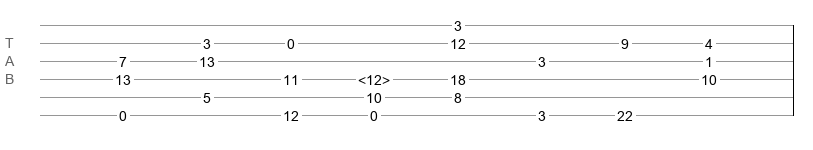0: (119, 108, 127, 118), (287, 36, 295, 46), (370, 108, 378, 118)
1: (705, 54, 713, 64)
10: (366, 90, 382, 100), (701, 72, 717, 82)
11: (283, 72, 299, 82)
12: (283, 108, 299, 118), (450, 36, 466, 46)
13: (115, 72, 131, 82), (199, 54, 215, 64)
18: (450, 72, 466, 82)
22: (617, 108, 633, 118)
3: (203, 36, 211, 46), (454, 18, 462, 28), (538, 108, 546, 118), (538, 54, 546, 64)
4: (705, 36, 713, 46)
5: (203, 90, 211, 100)
7: (119, 54, 127, 64)
8: (454, 90, 462, 100)
9: (621, 36, 629, 46)
harmonic: (358, 72, 390, 82)
